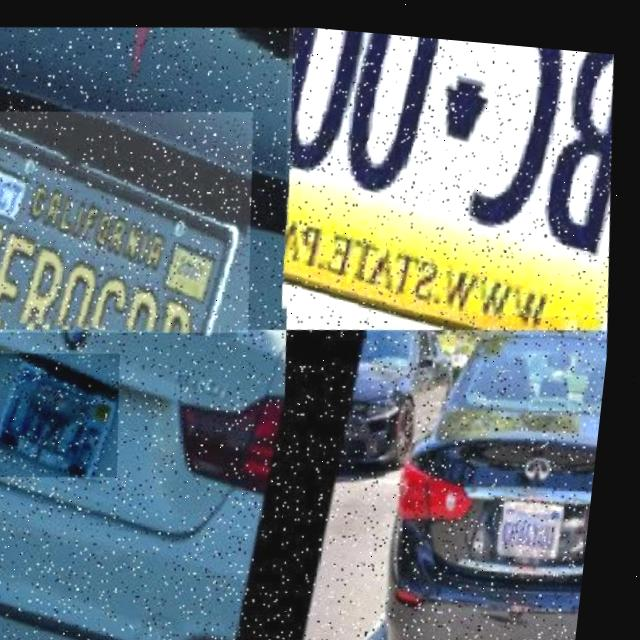LicensePlate: (264, 20, 636, 331), (0, 88, 273, 352), (0, 341, 138, 485), (504, 487, 569, 541)
